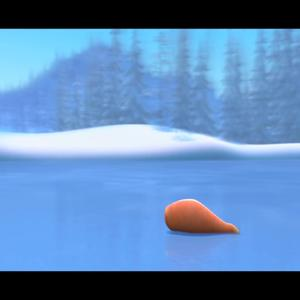carrot: (158, 198, 251, 240)
